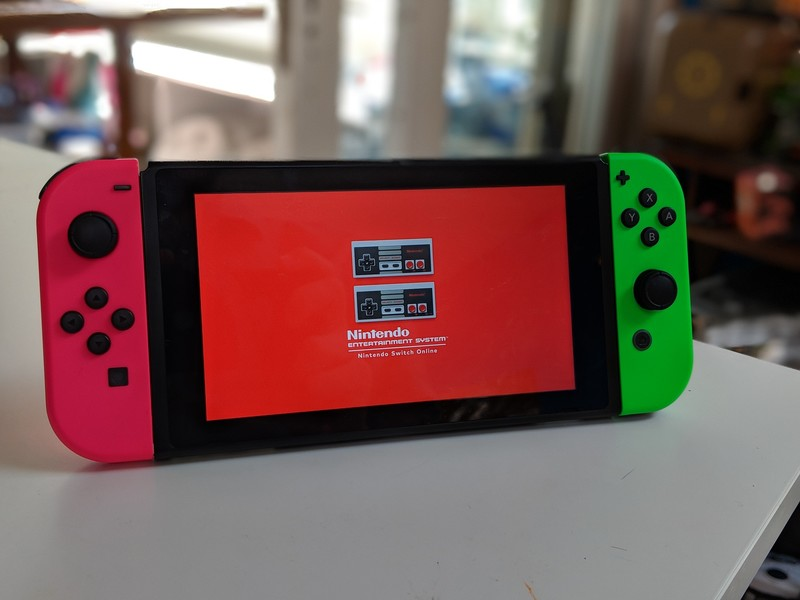NintendoSwitch: (31, 149, 701, 473)
